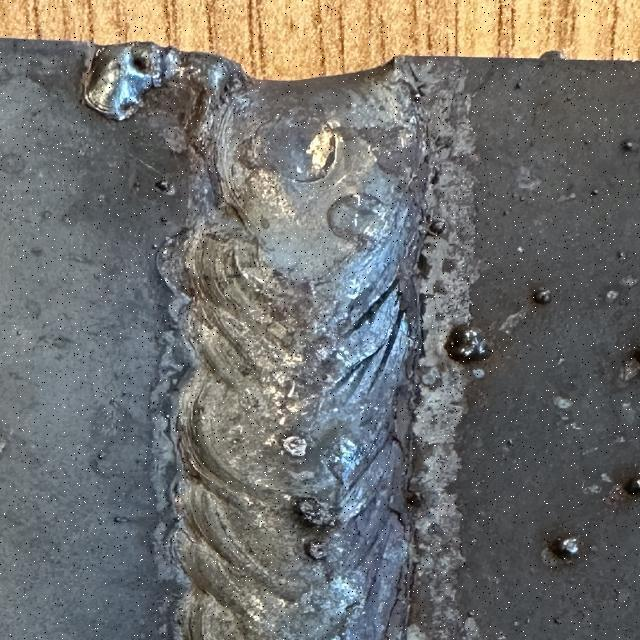Excess Reinforcement: (83, 42, 180, 120), (172, 52, 248, 151), (157, 221, 238, 300)
Spatters: (445, 324, 492, 362), (550, 538, 580, 558), (532, 288, 552, 304), (428, 220, 445, 235), (625, 478, 640, 495), (155, 180, 170, 192), (605, 290, 618, 301), (622, 141, 635, 151), (160, 216, 168, 224), (553, 618, 562, 625), (618, 251, 627, 258), (513, 82, 522, 89), (507, 439, 513, 446), (517, 246, 523, 252), (502, 210, 507, 216)
